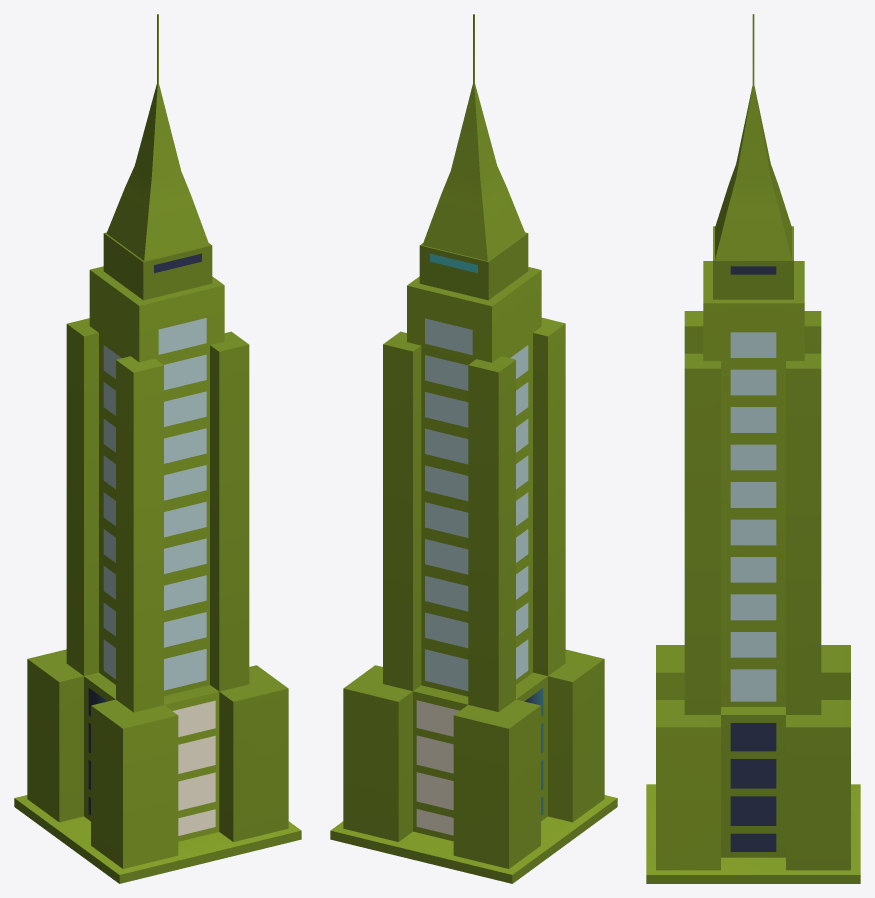
File: Building3.fbx
The picture shows the model from 3 angles, left to right: view 1: azimuth 30°, elevation 25°; view 2: azimuth 150°, elevation 25°; view 3: azimuth 270°, elevation 25°; orthographic projection.
Parts seen in each view (by area): view 1: Building3; view 2: Building3; view 3: Building3.
Part boxes in pixels (left/top/right/bottom): Building3: left=14, top=14, right=301, bottom=883; Building3: left=330, top=14, right=617, bottom=883; Building3: left=646, top=14, right=860, bottom=883.
Bounding box in the file's own units: 225 × 956 × 225.
